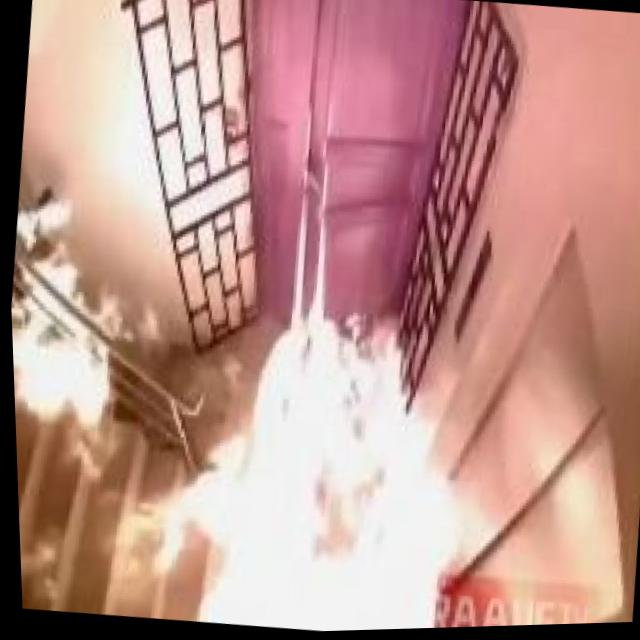fire: (167, 298, 483, 636), (5, 176, 156, 454)
